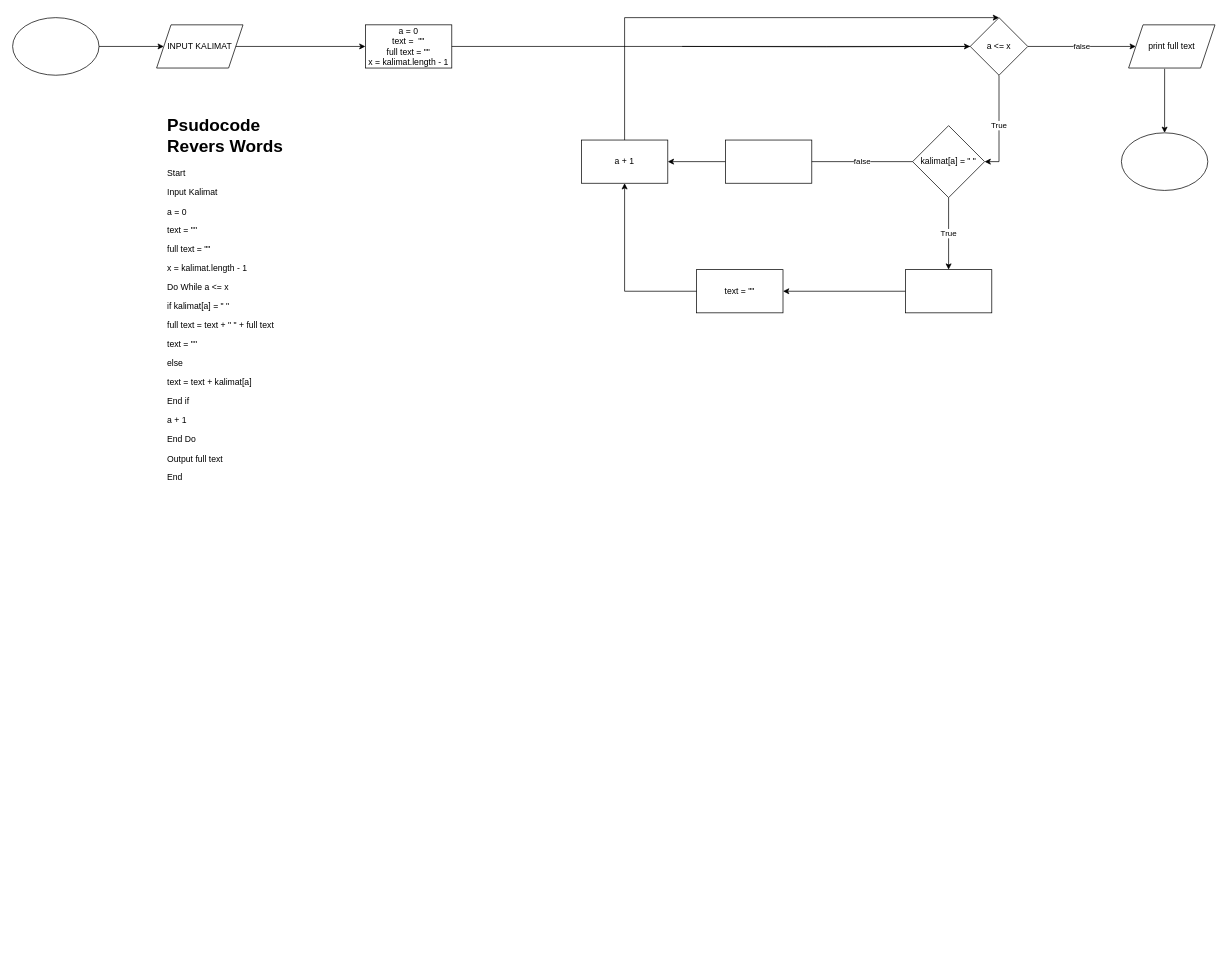
The diagram is 1228 pixels wide and 966 high, and some of its shapes have lost their labels. Each missing label, with the centre of its shape:
END: point (1164, 161)
full text = text + " " + full text: point (948, 291)
START: point (55, 46)
text = text + kalimat[a]: point (768, 161)
